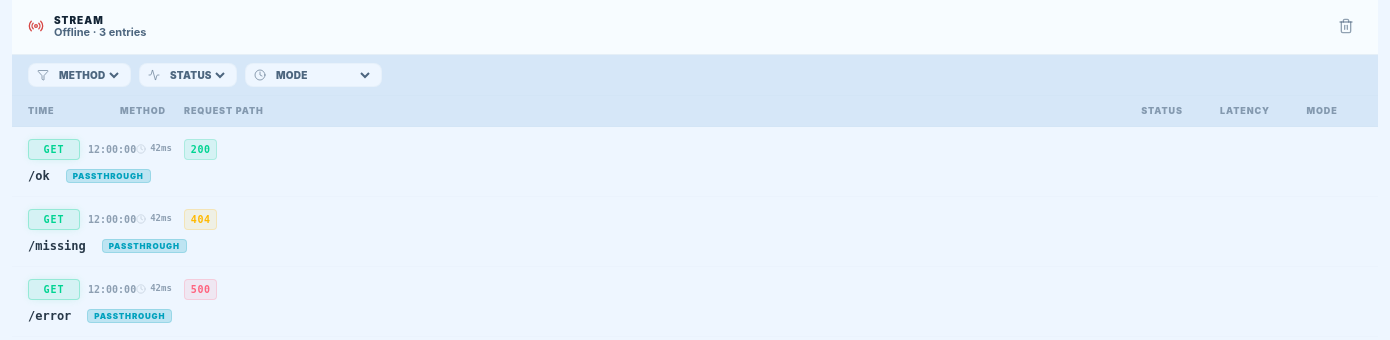
ActivityFeed › filters entries by status code
Note: Filter by 2xx
Select "2xx" in the 2nd dropdown at (197, 75), box [166,68,228,82]
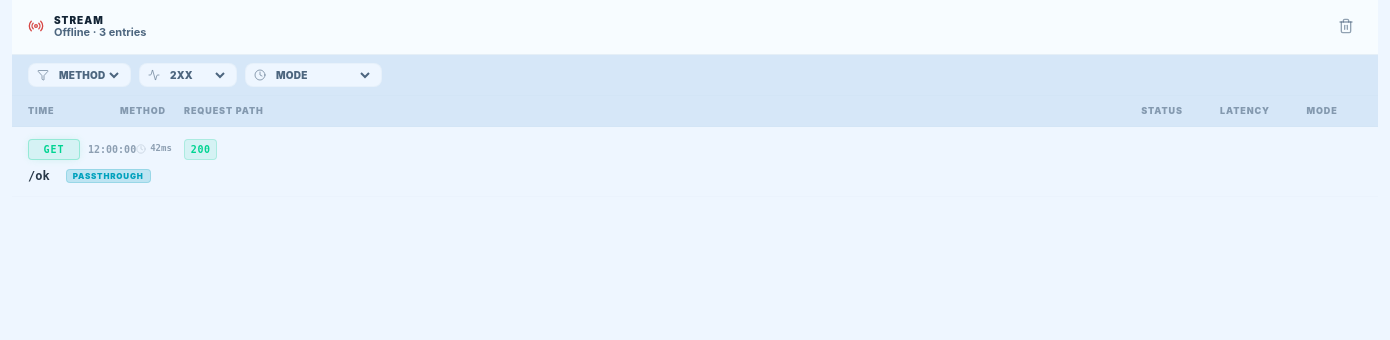
Expected: the text "/ok" is shown, [28,168,50,184]
Expected: the button "/missing" is gone
Expected: the button "/error" is gone
